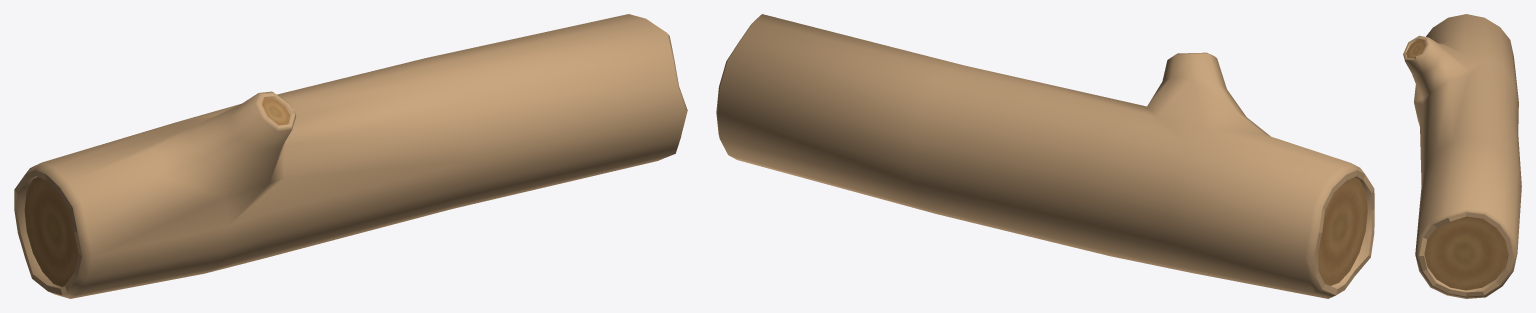
The model's file is Log_5.fbx.
The picture shows the model from 3 angles, left to right: view 1: azimuth 30°, elevation 25°; view 2: azimuth 150°, elevation 25°; view 3: azimuth 270°, elevation 25°; orthographic projection. The views are drawn at different scales.
Visible parts, largest first — view 1: Cylinder.080; view 2: Cylinder.080; view 3: Cylinder.080.
Boxes of the visible parts, left/top/right/bottom form: Cylinder.080: left=14, top=14, right=687, bottom=298; Cylinder.080: left=716, top=14, right=1374, bottom=298; Cylinder.080: left=1403, top=14, right=1521, bottom=298.
Size of the model in its own units: 241 by 70.6 by 59.57.
